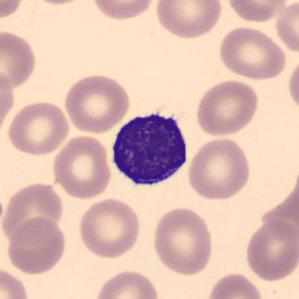Lymphocyte: (106, 103, 194, 191)
RBC: (150, 204, 215, 277), (185, 136, 253, 202), (62, 72, 132, 134), (0, 180, 66, 245), (76, 196, 143, 260), (51, 133, 113, 200), (193, 77, 261, 138), (216, 25, 288, 81), (6, 99, 72, 157), (5, 216, 68, 276), (243, 217, 298, 283), (154, 0, 224, 40), (0, 28, 39, 91), (92, 267, 162, 299), (206, 271, 265, 299), (224, 0, 291, 24), (88, 0, 158, 22), (272, 0, 299, 55), (0, 67, 17, 136), (0, 266, 32, 299), (285, 56, 299, 115), (0, 0, 27, 22), (22, 0, 92, 7)
